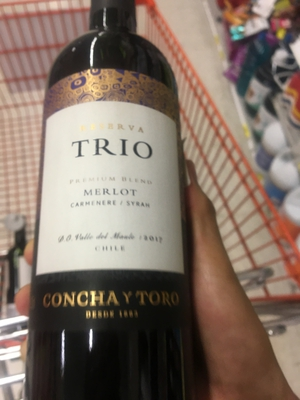trio merlot: (26, 21, 208, 375)
